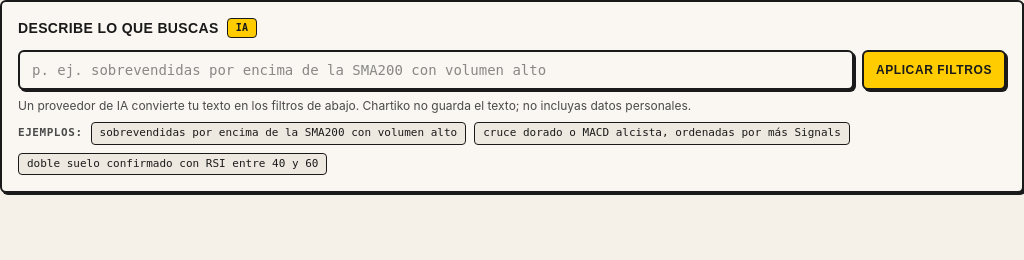
Test: ScreenerAiQuery › does not send a request shorter than 3 characters
The image size is (1024, 260).
Replace the text in the field named "Búsqueda en tus palabras" with "  ab ": point(436, 70) [18,50,854,90]
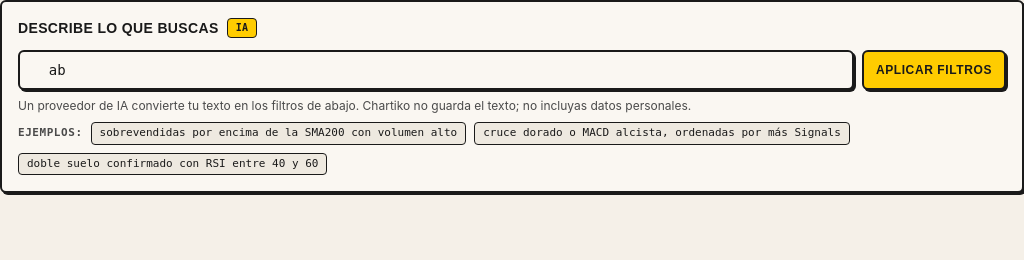
Click the button "Aplicar filtros": point(934, 70) [862,50,1006,90]
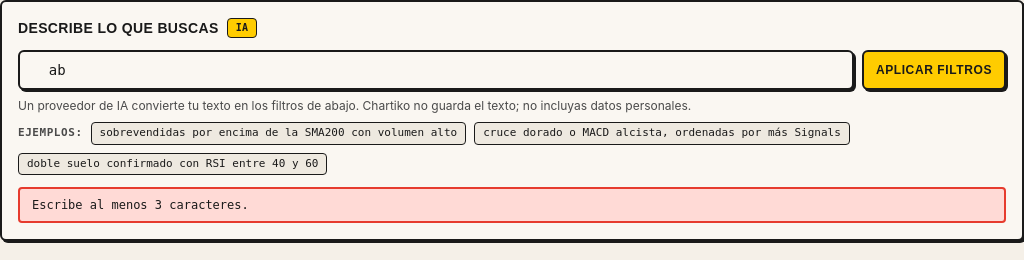
Check: the message reads "Escribe al menos 3 caracteres.", box [32,198,249,212]
